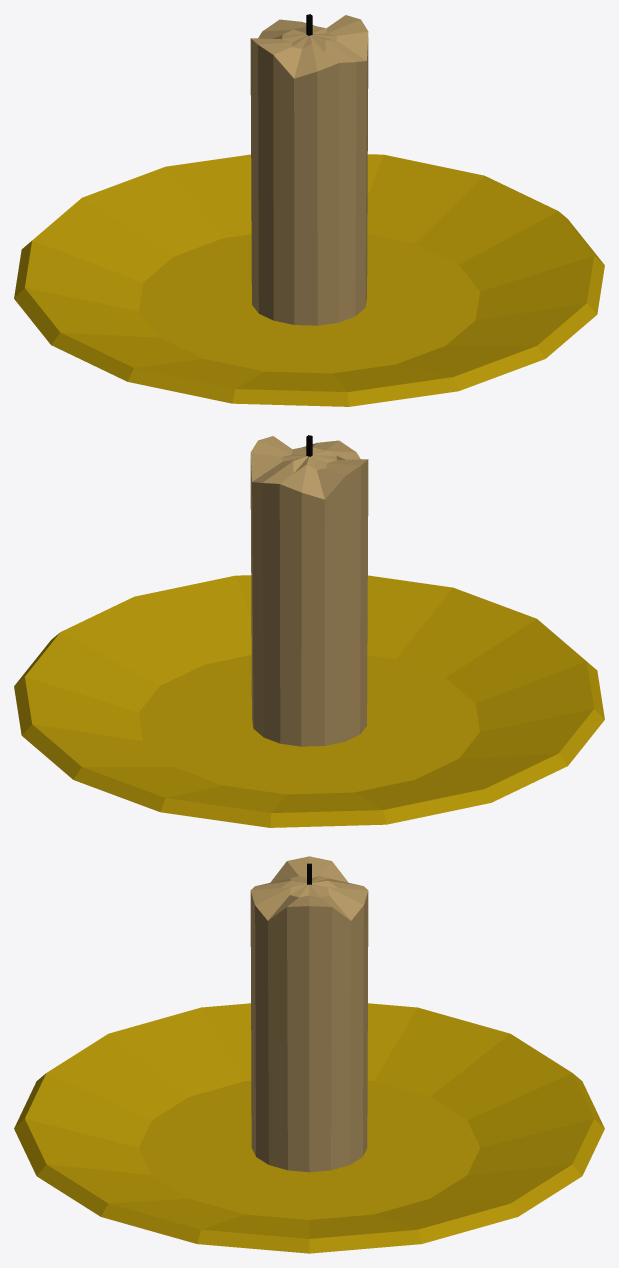
Rendered from Candle.fbx.
3 views of the same model, one above another, from view 1: azimuth 30°, elevation 25°; view 2: azimuth 150°, elevation 25°; view 3: azimuth 270°, elevation 25° (orthographic).
Visible parts, largest first — view 1: Cylinder; view 2: Cylinder; view 3: Cylinder.
Boxes of the visible parts, x1,y1,x2,y2 form: Cylinder: (14,14,604,406); Cylinder: (14,435,604,827); Cylinder: (14,856,604,1253).
Bounding box in the file's own units: 391 × 214 × 391.
